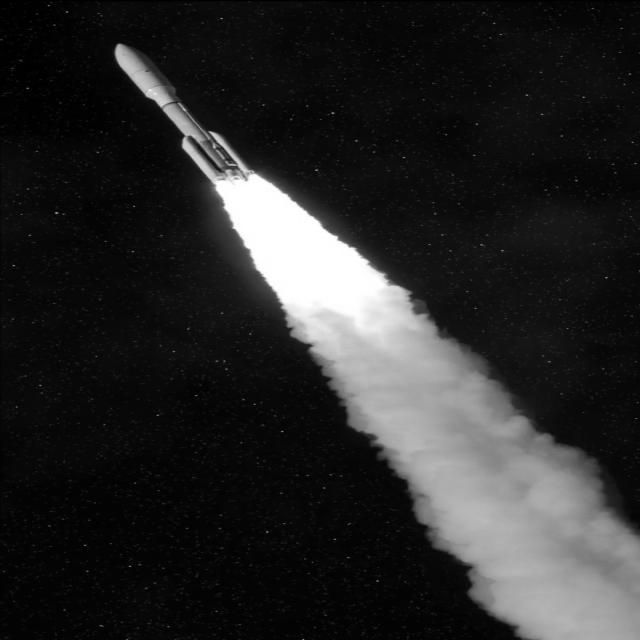missile: (100, 34, 256, 184)
